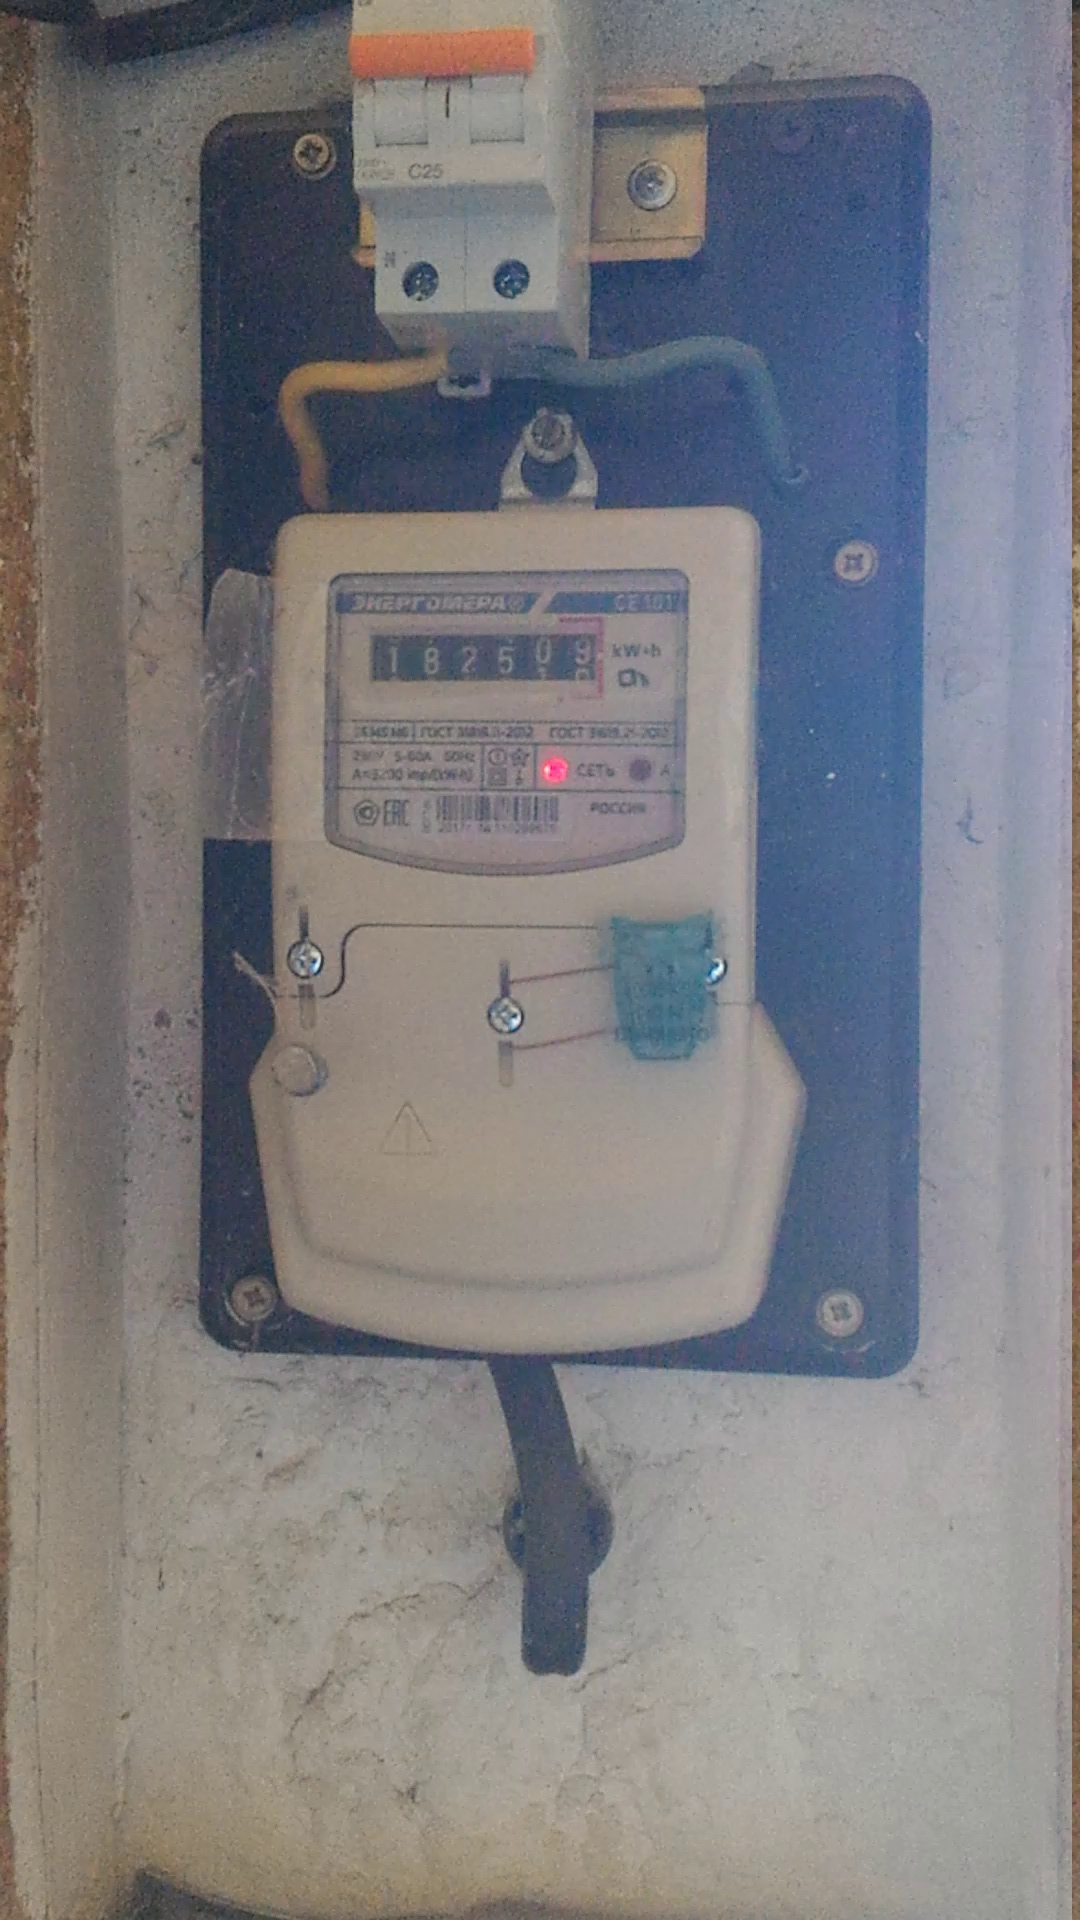counter: (241, 502, 790, 1342)
counter_screen: (367, 632, 600, 684)
